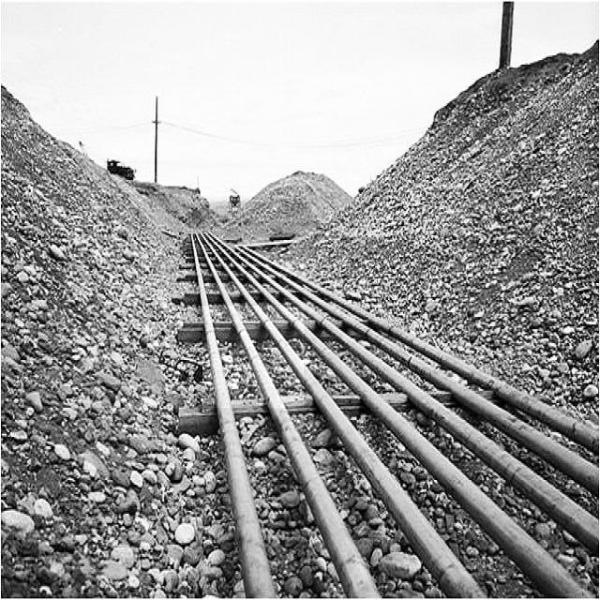no leak: (202, 306, 304, 408)
